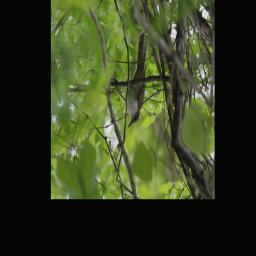Cuckoo: (107, 28, 167, 130)
